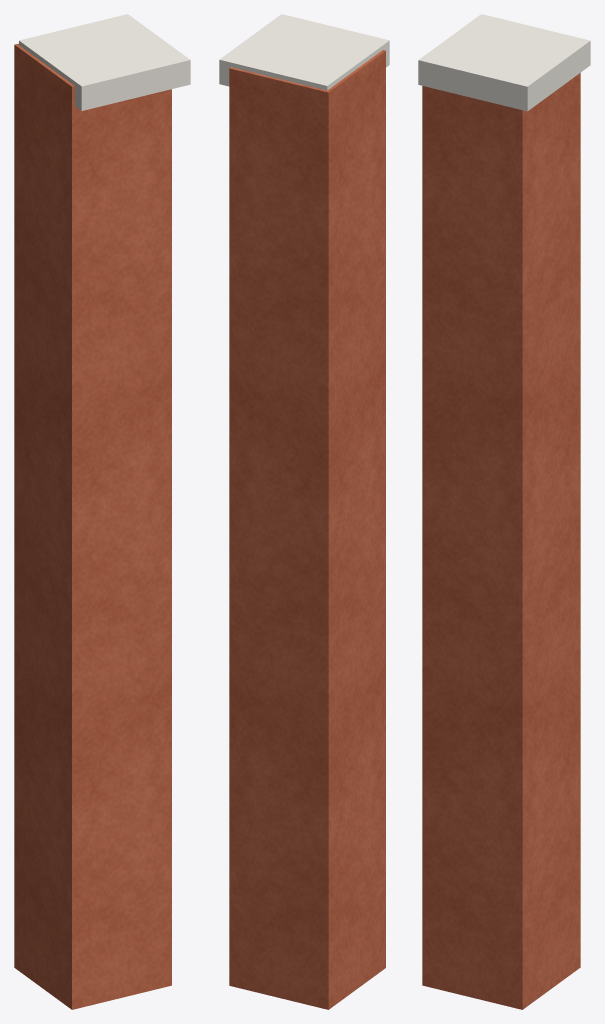
File: corner_render.glb
3 views of the same model, side by side, from view 1: azimuth 30°, elevation 25°; view 2: azimuth 150°, elevation 25°; view 3: azimuth 330°, elevation 25° (orthographic).
Visible parts, largest first — view 1: corner_render_render, corner_render_trim; view 2: corner_render_render, corner_render_trim; view 3: corner_render_render, corner_render_trim.
Boxes of the visible parts, bbox=[...] form: corner_render_render: bbox=[14, 43, 171, 1009]; corner_render_trim: bbox=[19, 14, 190, 110]; corner_render_render: bbox=[229, 50, 385, 1009]; corner_render_trim: bbox=[219, 14, 389, 90]; corner_render_render: bbox=[422, 73, 580, 1009]; corner_render_trim: bbox=[418, 14, 590, 111].
Size of the model in its own units: 0.38 by 3.02 by 0.38.
Materials: 2 (1 with a texture image).
